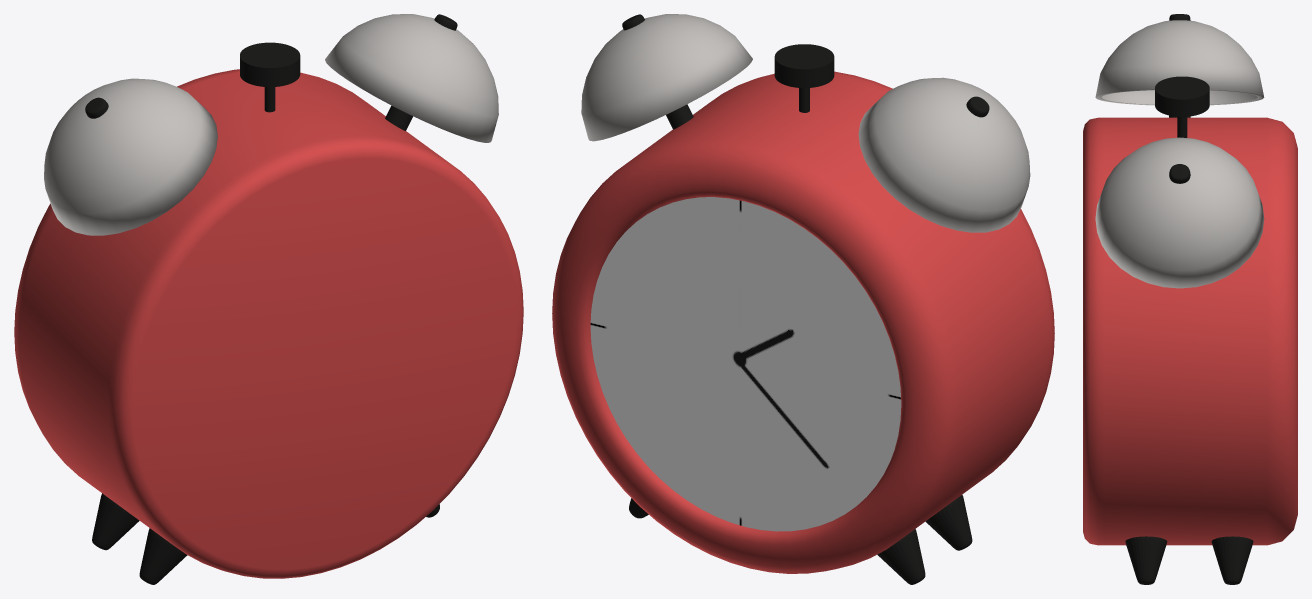
The model's file is alarmClock.fbx.
3 renders of one model, left to right at view 1: azimuth 30°, elevation 25°; view 2: azimuth 150°, elevation 25°; view 3: azimuth 270°, elevation 25°, orthographic. The views are drawn at different scales.
Parts seen in each view (by area): view 1: Sphere; view 2: Sphere; view 3: Sphere.
Boxes of the visible parts, x1=… form: Sphere: x1=14, y1=14, x2=523, y2=584; Sphere: x1=552, y1=14, x2=1054, y2=584; Sphere: x1=1083, y1=14, x2=1297, y2=584.
Bounding box in the file's own units: 210 × 226 × 100.
